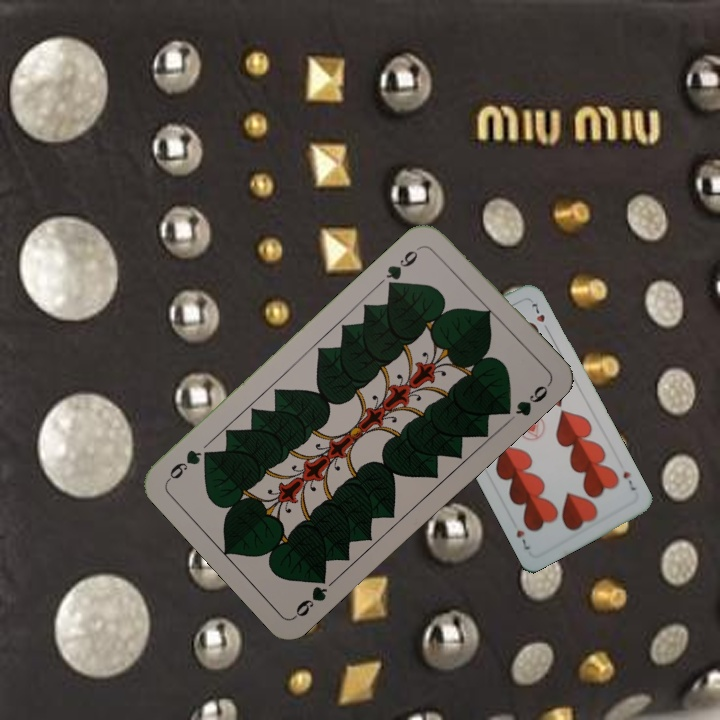G9: (381, 241, 425, 292), (290, 568, 330, 620)
H7: (619, 467, 638, 493)
